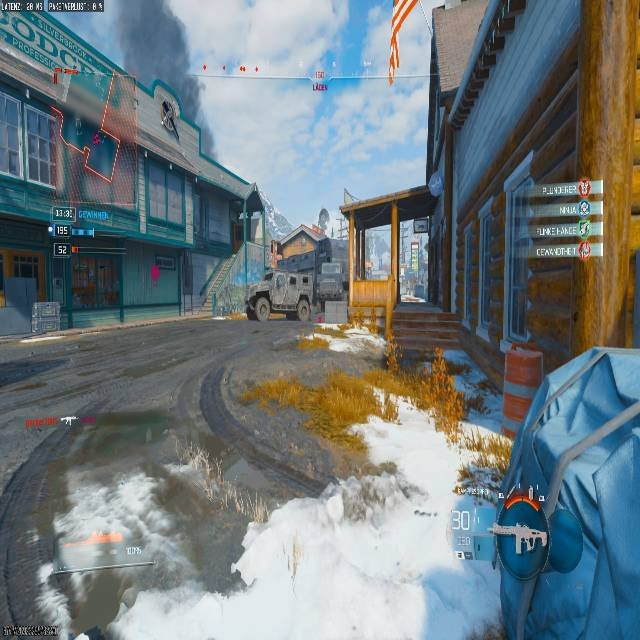player: (245, 287, 272, 323)
